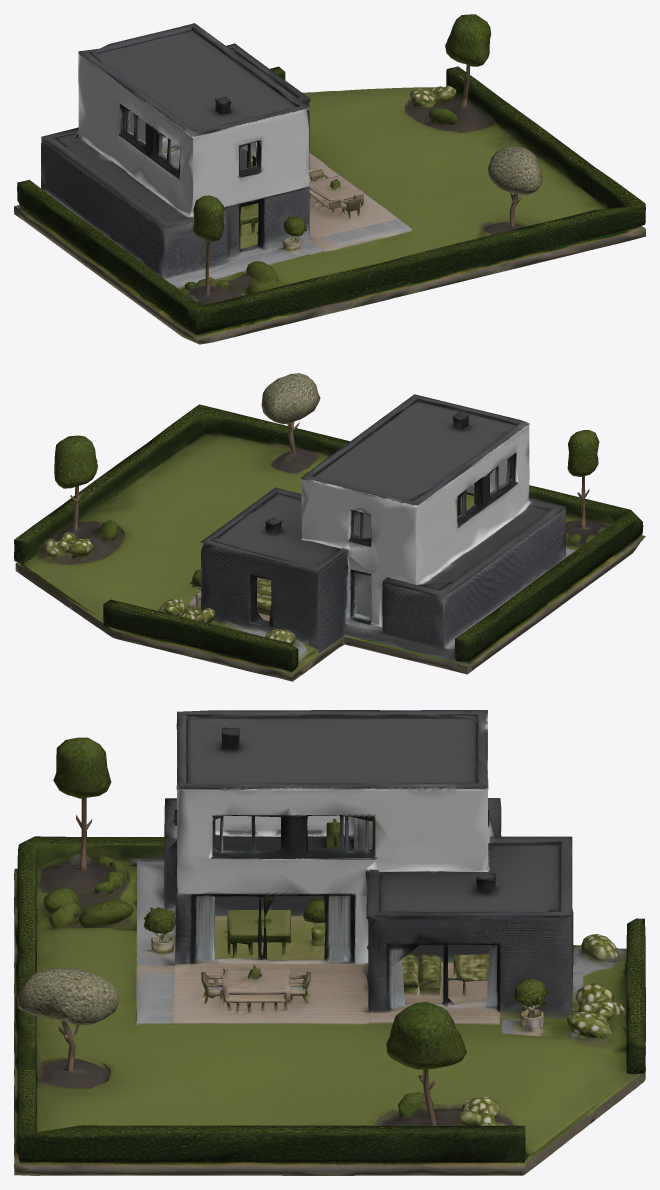
The model's file is bld-005.glb.
3 views of the same model, one above another, from view 1: azimuth 30°, elevation 25°; view 2: azimuth 150°, elevation 25°; view 3: azimuth 270°, elevation 25° (orthographic). The views are drawn at different scales.
Visible parts, largest first — view 1: tripo_node_99cfae29-2e6d-4f60-8869-3e6e2fbdd327; view 2: tripo_node_99cfae29-2e6d-4f60-8869-3e6e2fbdd327; view 3: tripo_node_99cfae29-2e6d-4f60-8869-3e6e2fbdd327.
Part boxes in pixels (left/top/right/bottom): tripo_node_99cfae29-2e6d-4f60-8869-3e6e2fbdd327: left=14, top=14, right=645, bottom=344; tripo_node_99cfae29-2e6d-4f60-8869-3e6e2fbdd327: left=14, top=373, right=645, bottom=681; tripo_node_99cfae29-2e6d-4f60-8869-3e6e2fbdd327: left=14, top=710, right=645, bottom=1175.
Bounding box in the file's own units: 1 × 0.3448 × 0.8948.
1 material, 1 textured.
